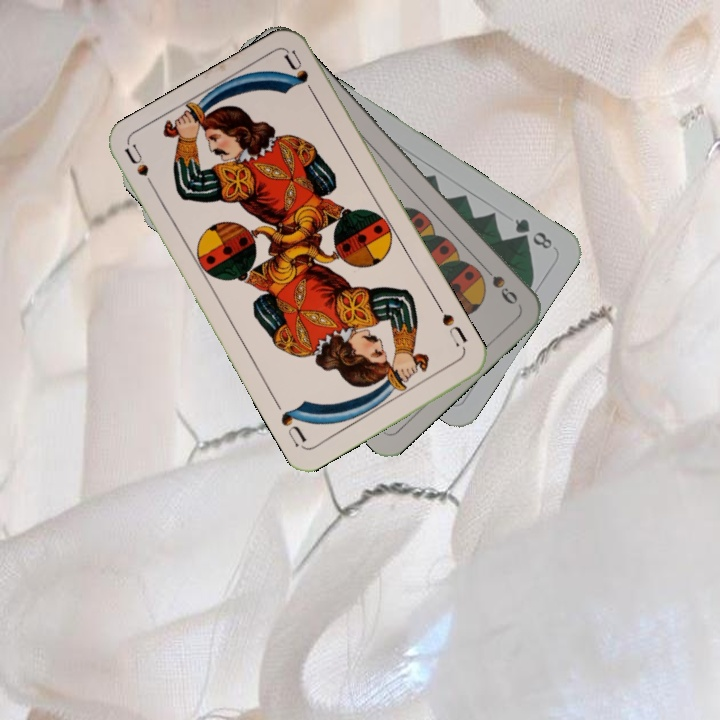G8: (510, 214, 555, 252)
S9: (476, 259, 521, 307)
SU: (121, 141, 161, 197), (433, 300, 470, 349)
